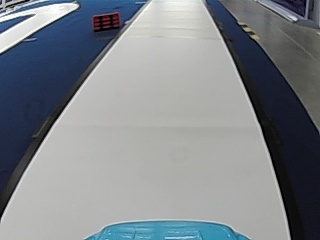bomb: (92, 11, 120, 29)
